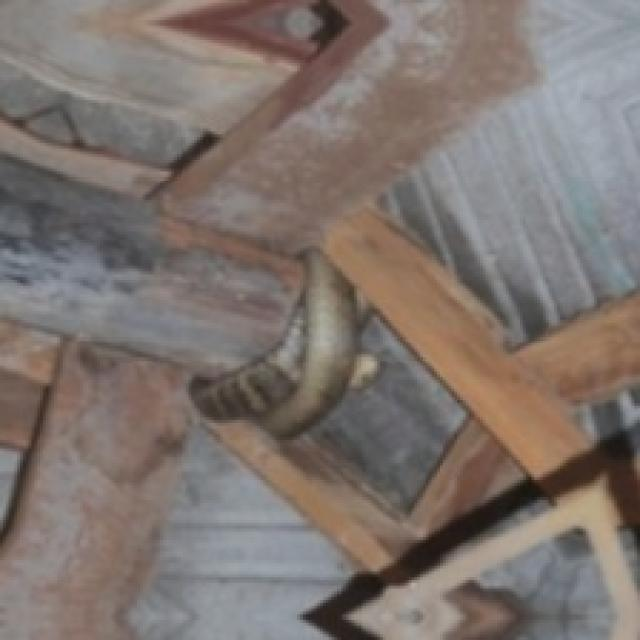king cobra: (191, 249, 354, 434)
